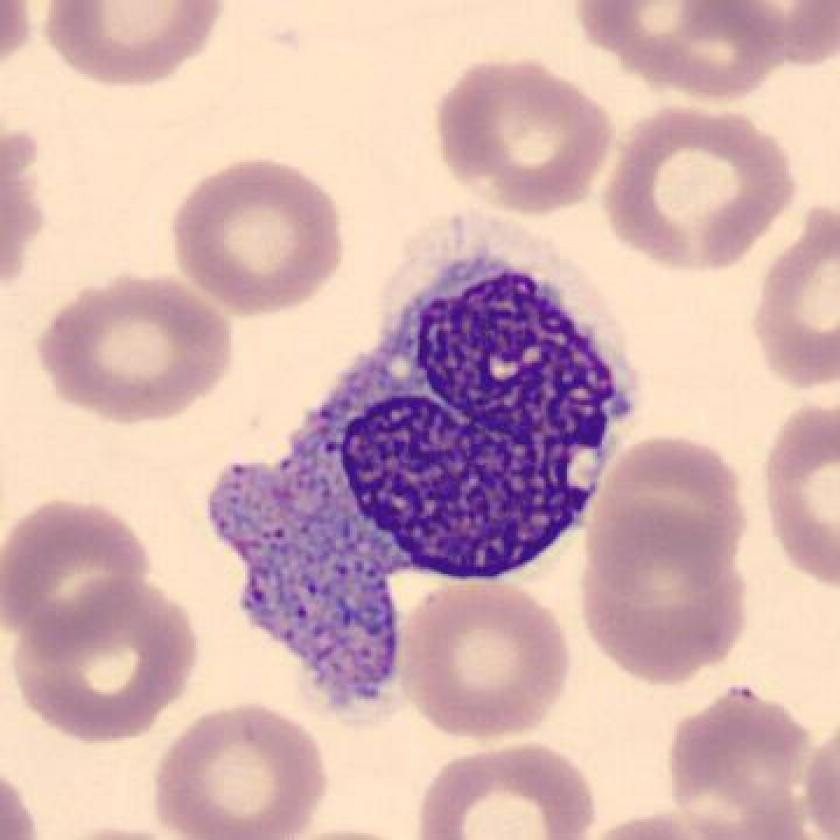monocyte: (185, 210, 659, 719)
